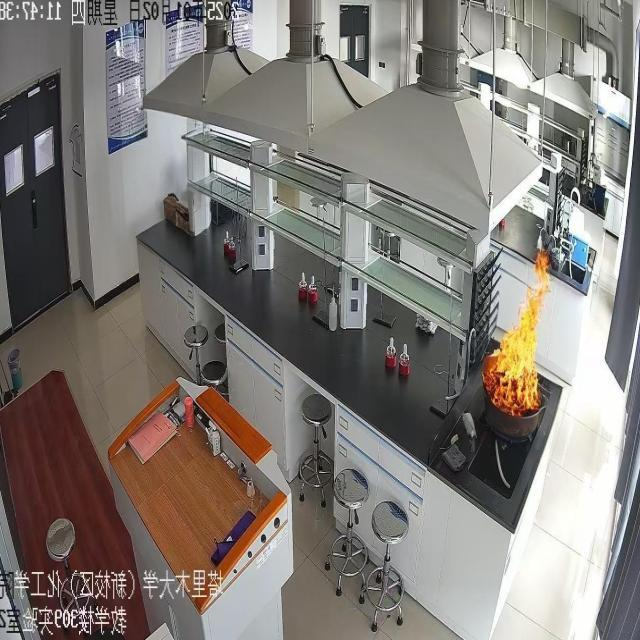smoke: (488, 238, 553, 418)
